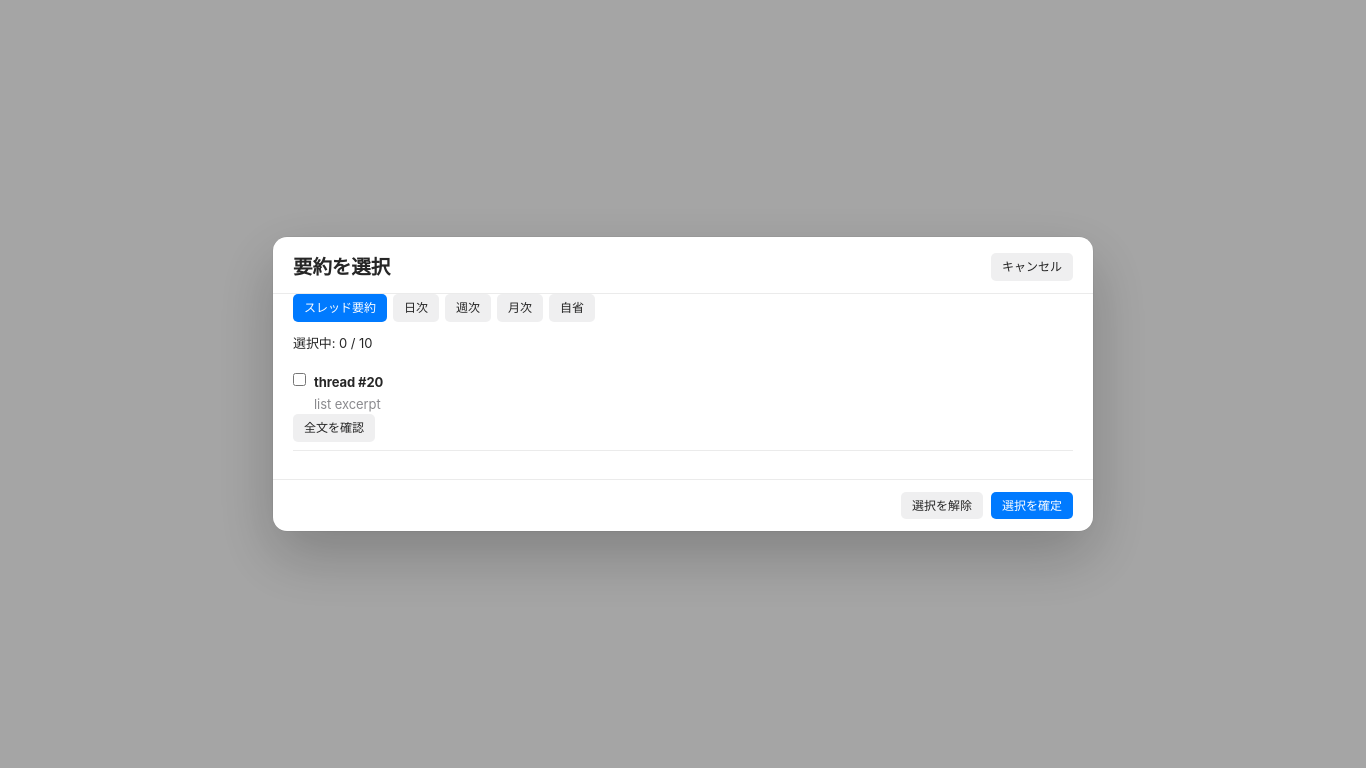
it: SummarySelectionModal › renders a fetched JSON summary as structured content
Expected: the text "thread #20" is shown, x1=314 y1=372 x2=383 y2=391
What coordinates should you click on to do the following:
click the button "全文を確認"
I would click on:
 (334, 428)
Its box is x1=293 y1=414 x2=375 y2=442.
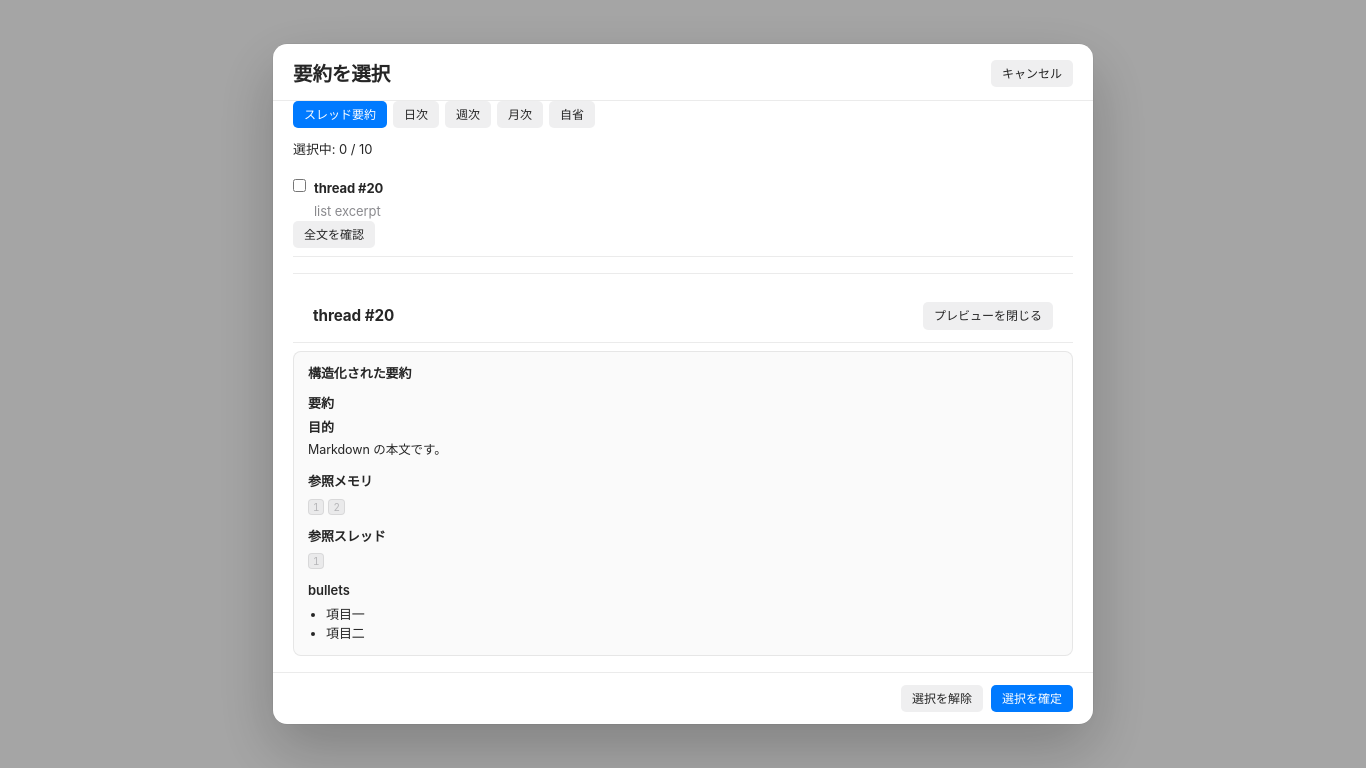
Now the heading "構造化された要約" is shown, box x1=308 y1=364 x2=412 y2=380
Now the text "要約" is shown, box x1=308 y1=395 x2=334 y2=411
Now the text "Markdown の本文です。" is shown, box x1=308 y1=442 x2=447 y2=457
